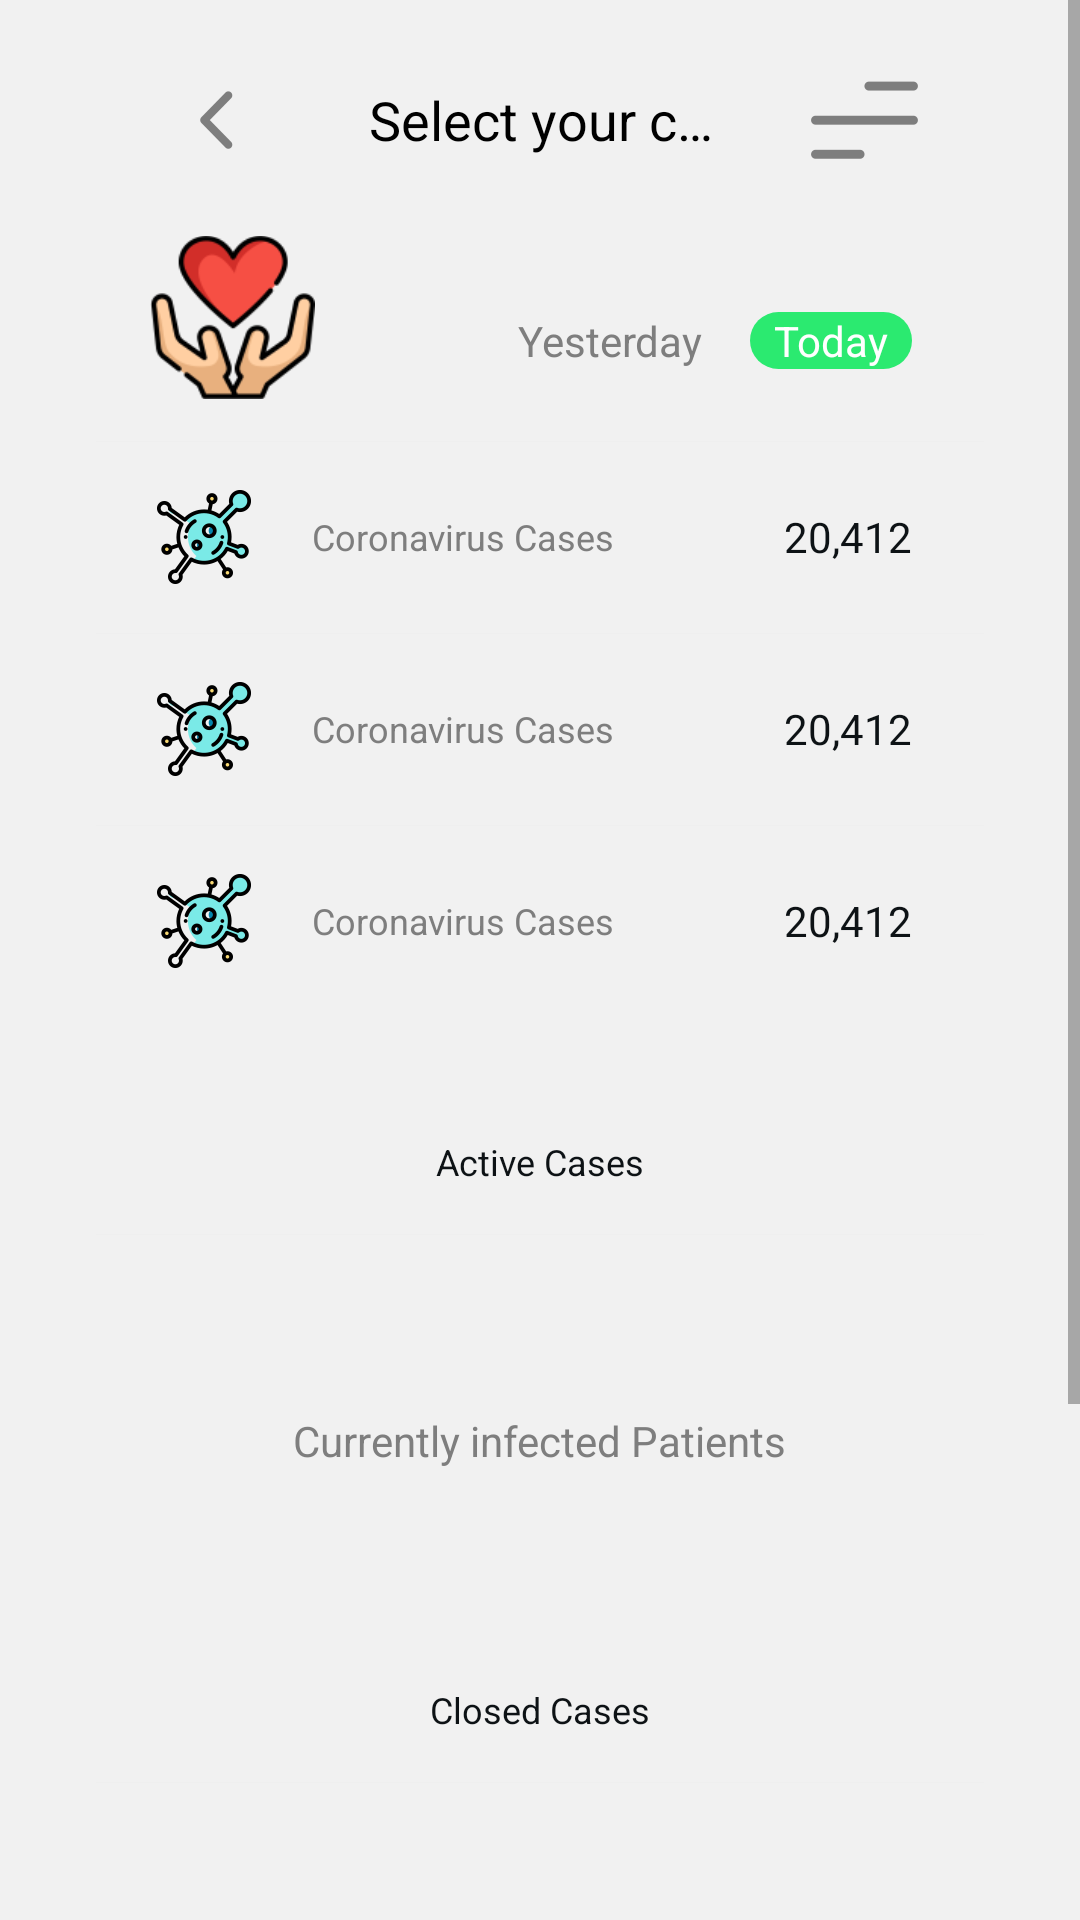

Icon bounding boxes for this 1080x1920 phone screenshot, format (x1, y1, x2, y2):
hearth: (151, 236, 315, 399)
